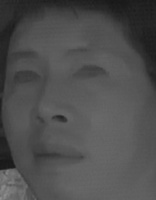eye: (70, 61, 110, 86), (11, 68, 45, 87)
mouth: (26, 137, 84, 173)
